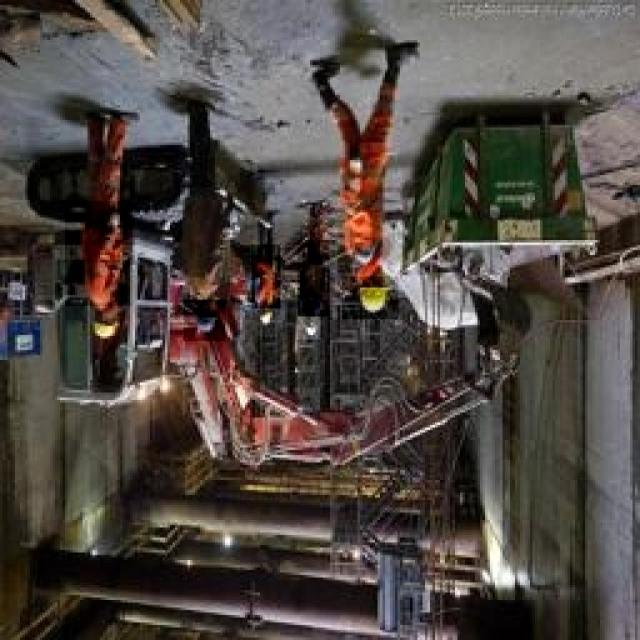Helmet: (334, 168, 402, 276), (65, 201, 133, 306), (182, 188, 231, 300), (342, 269, 398, 319), (298, 240, 330, 316), (78, 303, 130, 341), (183, 296, 226, 341), (255, 307, 283, 337), (296, 310, 321, 340)
Safety Vest: (252, 244, 280, 308)
